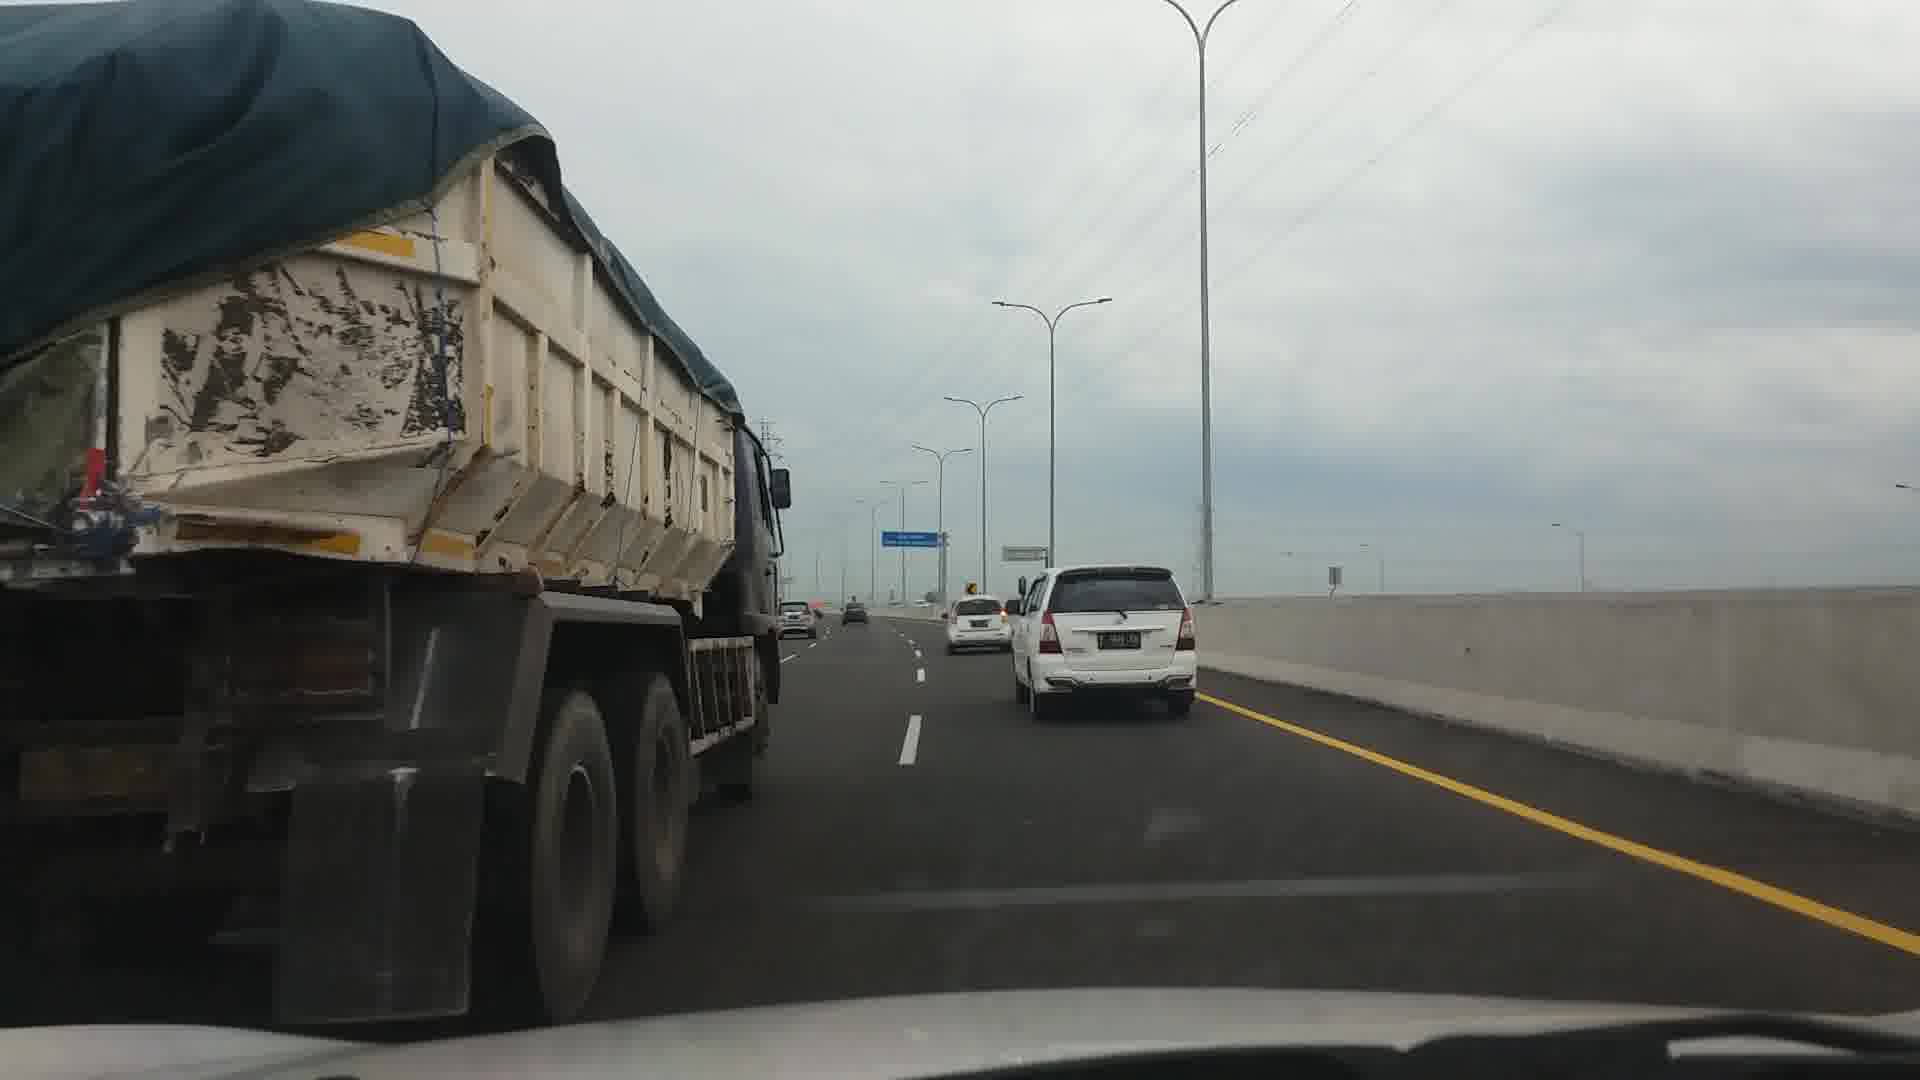plate_positive: (1098, 632, 1142, 650), (972, 620, 988, 628)
